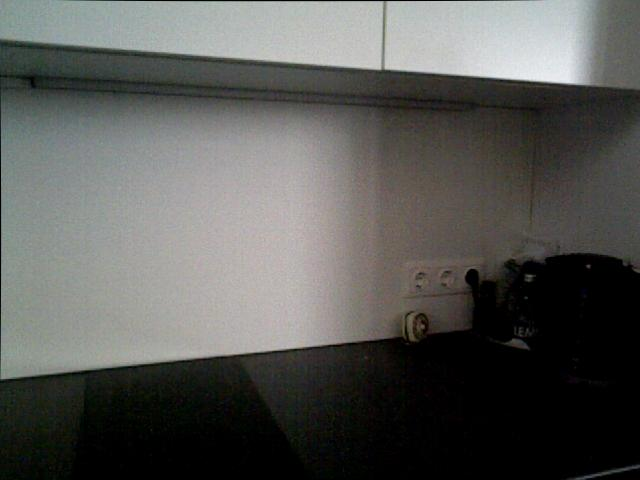bench: (513, 272, 540, 339)
giraffe: (399, 309, 431, 344)
